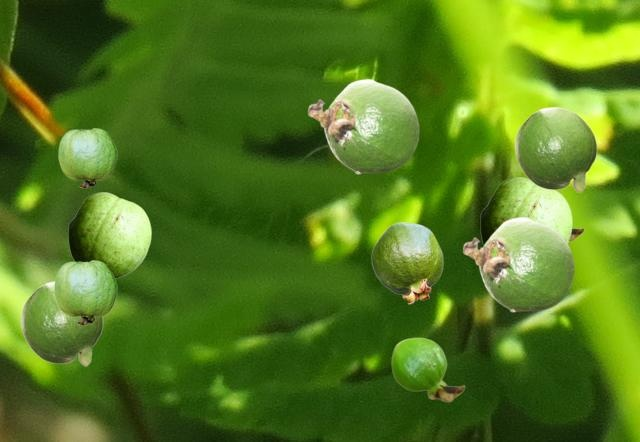guava: (462, 216, 574, 311), (307, 78, 419, 173), (514, 106, 596, 192), (68, 192, 150, 278), (20, 281, 102, 366), (480, 177, 571, 245), (371, 222, 442, 303), (391, 337, 464, 401), (54, 260, 116, 324), (58, 128, 116, 187), (565, 197, 583, 240)
